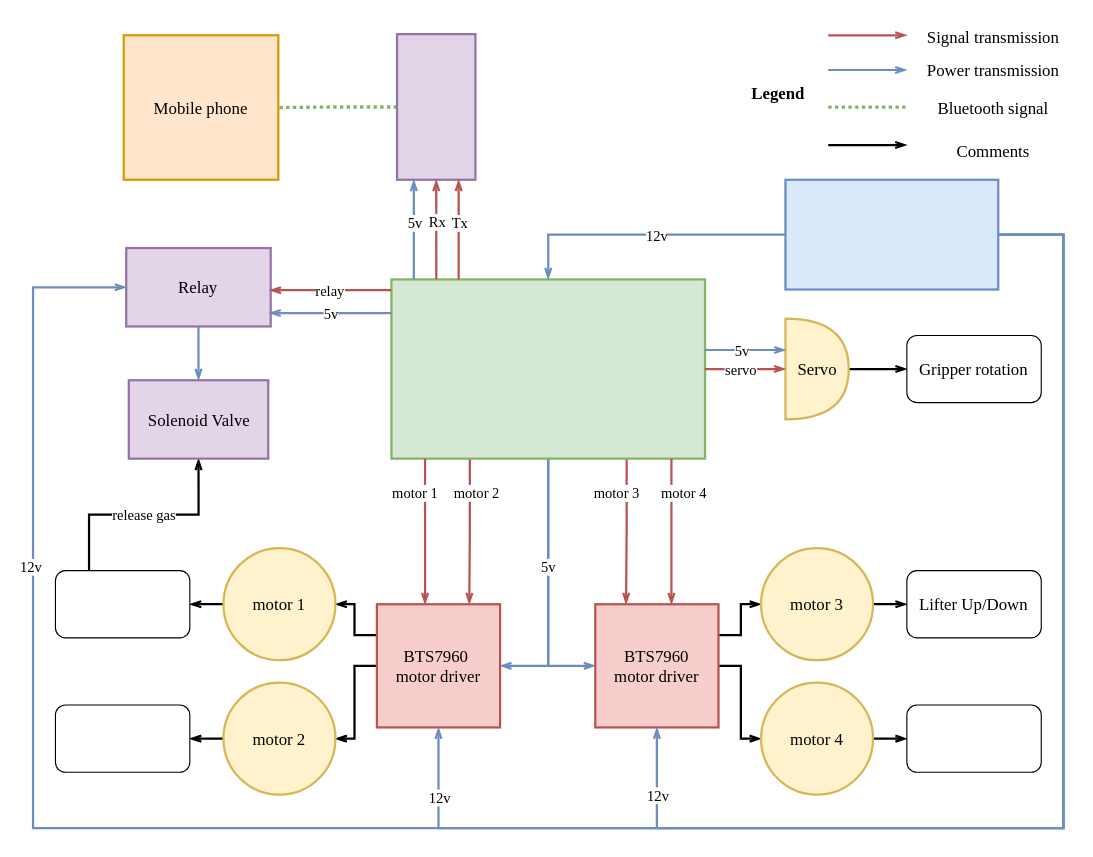
Some shapes in this 1093 by 857 pixel diagram are drawn without their labels. The centre of each missing label's shape, as x and y in pixels:
"Air pump" goes at [122,604].
"Arduino Mega 2560 Rev3" goes at [548,368].
"Base plate rotation" goes at [973,738].
"DC12v Battery" goes at [891,234].
"HC-02 Bluetooth module" goes at [435,106].
"Horizontal screw" goes at [122,738].
